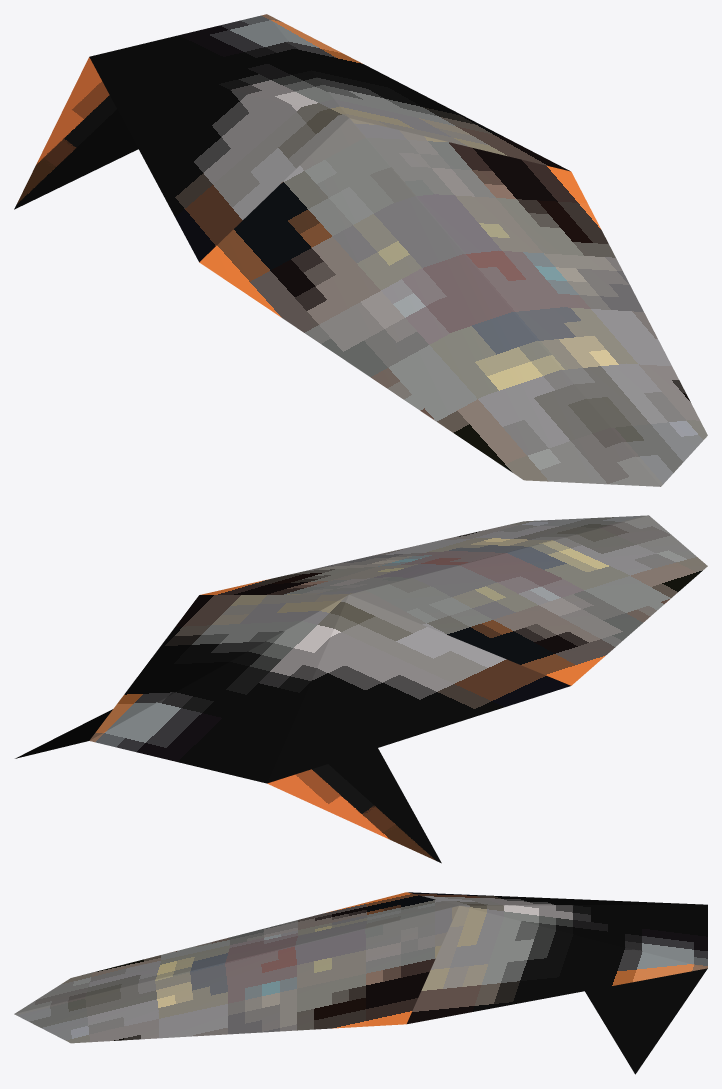
The model's file is LOD3-UVFlip.obj.
3 renders of one model, top to bottom at view 1: azimuth 30°, elevation 25°; view 2: azimuth 150°, elevation 25°; view 3: azimuth 270°, elevation 25°, orthographic. The views are drawn at different scales.
Visible parts, largest first — view 1: LOD2_Texture; view 2: LOD2_Texture; view 3: LOD2_Texture.
Part boxes in pixels (x1,y1,x2,y2): LOD2_Texture: (14,14,707,486); LOD2_Texture: (15,515,707,863); LOD2_Texture: (14,892,707,1074).
Size of the model in its own units: 13.51 by 4.98 by 26.08.
